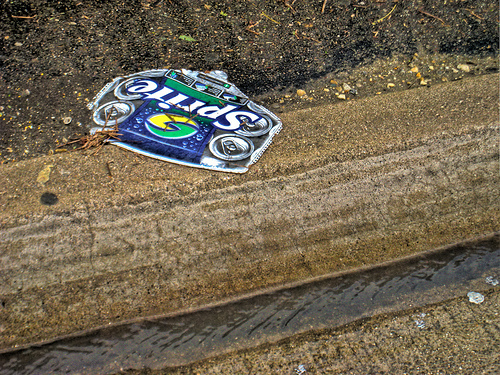litter: (84, 68, 283, 172)
